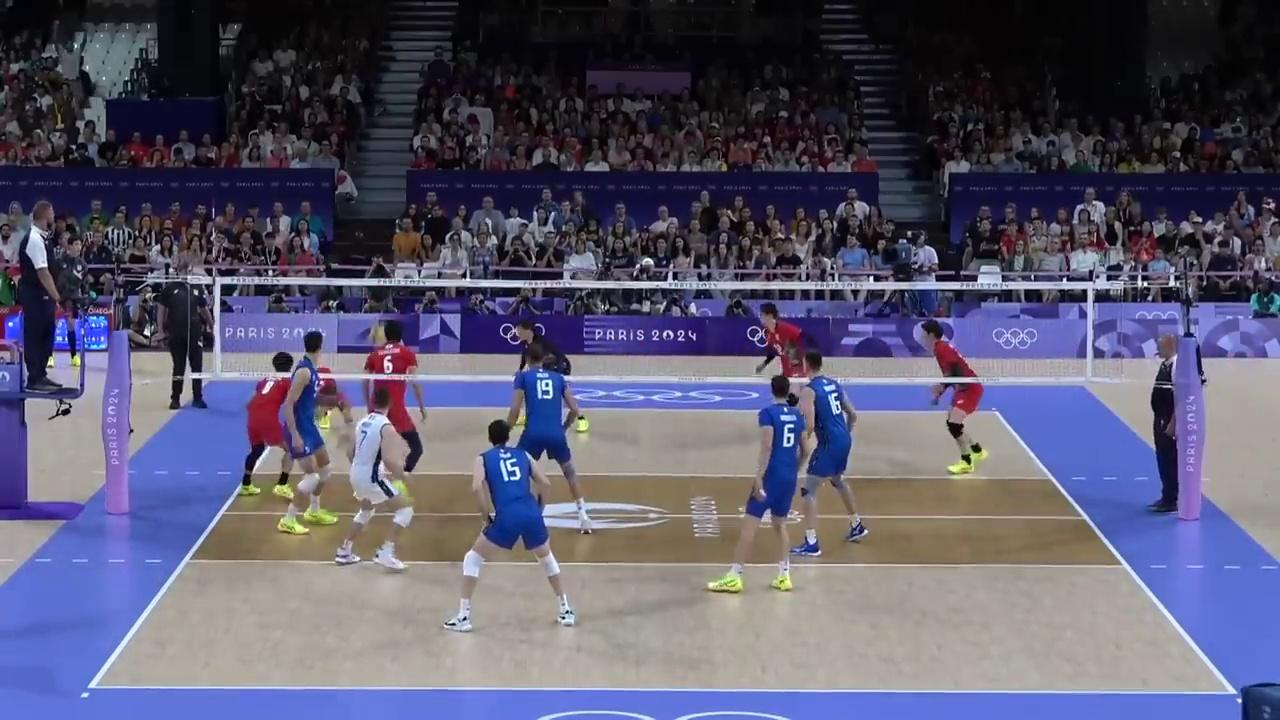ball: (368, 326, 388, 347)
